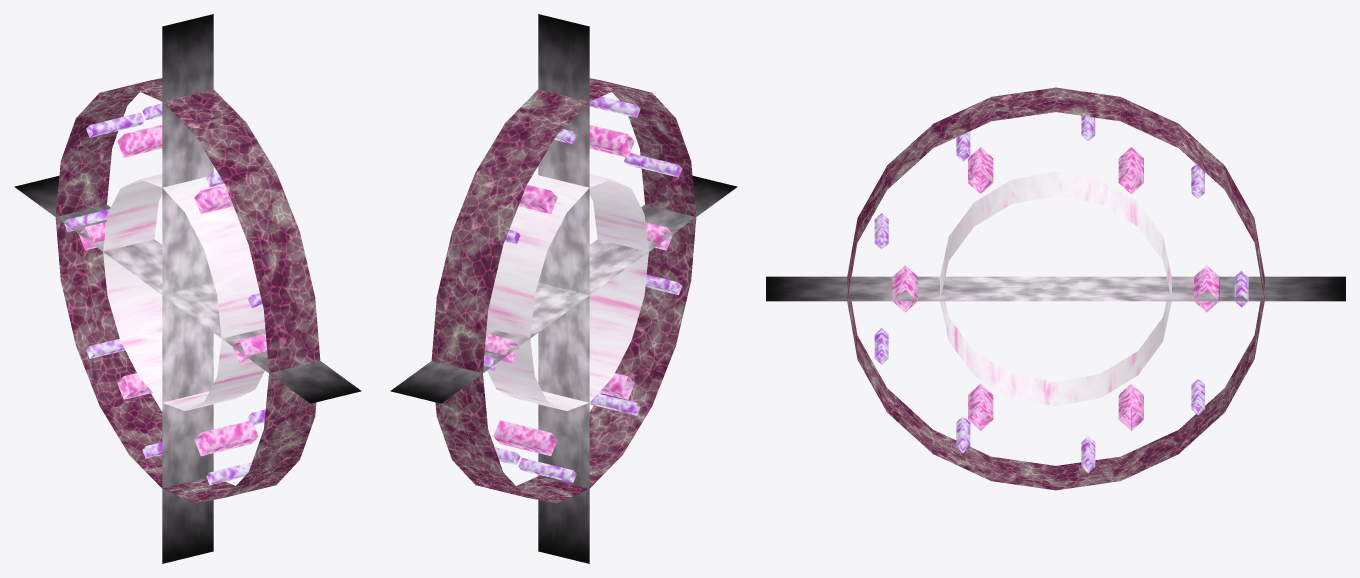
Rendered from boss_beam_fire.glb.
The picture shows the model from 3 angles, left to right: view 1: azimuth 30°, elevation 25°; view 2: azimuth 150°, elevation 25°; view 3: azimuth 270°, elevation 25°; orthographic projection. The views are drawn at different scales.
Parts seen in each view (by area): view 1: boss_shell, boss_ribbon, boss_core, boss_strands_in, boss_strands_out; view 2: boss_shell, boss_ribbon, boss_core, boss_strands_in, boss_strands_out; view 3: boss_shell, boss_ribbon, boss_core, boss_strands_in, boss_strands_out.
Part boxes in pixels (x1,y1,x2,y2): boss_shell: (55,78,320,503); boss_ribbon: (14,14,361,563); boss_core: (103,174,265,410); boss_strands_in: (79,125,267,456); boss_strands_out: (64,103,265,485); boss_shell: (431,78,696,503); boss_ribbon: (390,14,737,563); boss_core: (486,174,648,410); boss_strands_in: (484,125,672,456); boss_strands_out: (483,96,682,482); boss_shell: (847,87,1264,490); boss_ribbon: (766,276,1345,301); boss_core: (940,171,1171,406); boss_strands_in: (892,147,1219,430); boss_strands_out: (874,115,1248,472).
Bounding box in the file's own units: 1 × 10 × 10.
5 materials, 5 textured.
